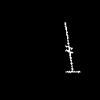treble_crochet: (65, 23, 79, 72)
